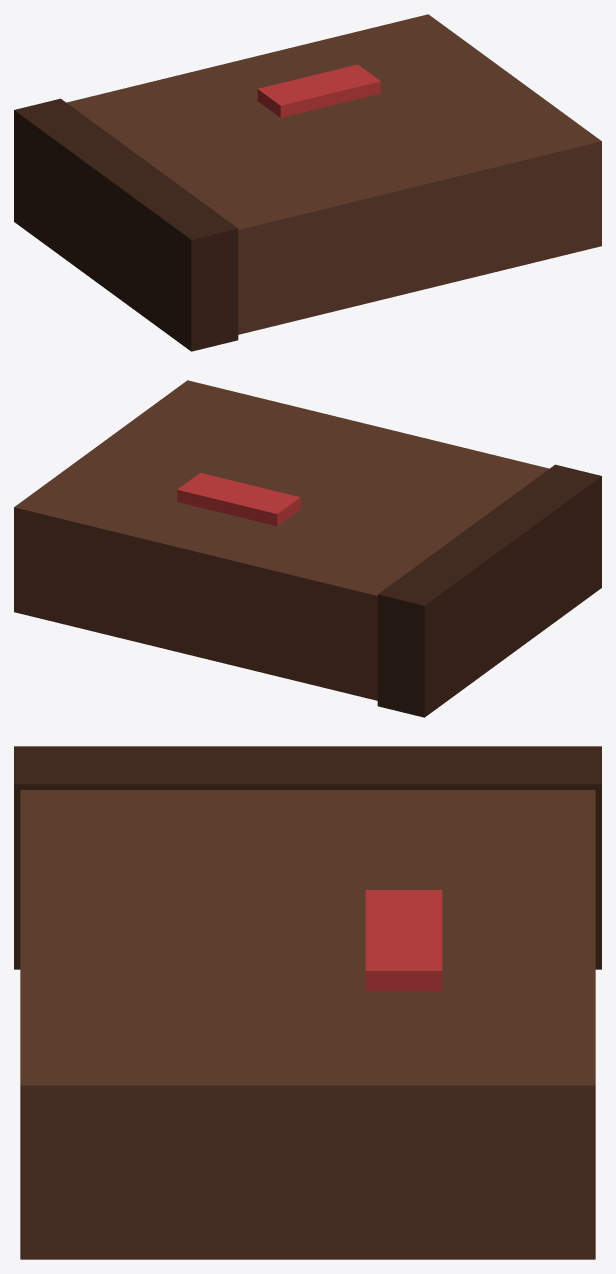
The model's file is drop_book.glb.
3 renders of one model, top to bottom at view 1: azimuth 30°, elevation 25°; view 2: azimuth 150°, elevation 25°; view 3: azimuth 270°, elevation 25°, orthographic. The views are drawn at different scales.
Parts seen in each view (by area): view 1: drop_book; view 2: drop_book; view 3: drop_book.
Part boxes in pixels (left/top/right/bottom): drop_book: left=14, top=14, right=601, bottom=351; drop_book: left=14, top=380, right=601, bottom=717; drop_book: left=14, top=746, right=601, bottom=1259.
Bounding box in the file's own units: 0.247 × 0.069 × 0.184.
